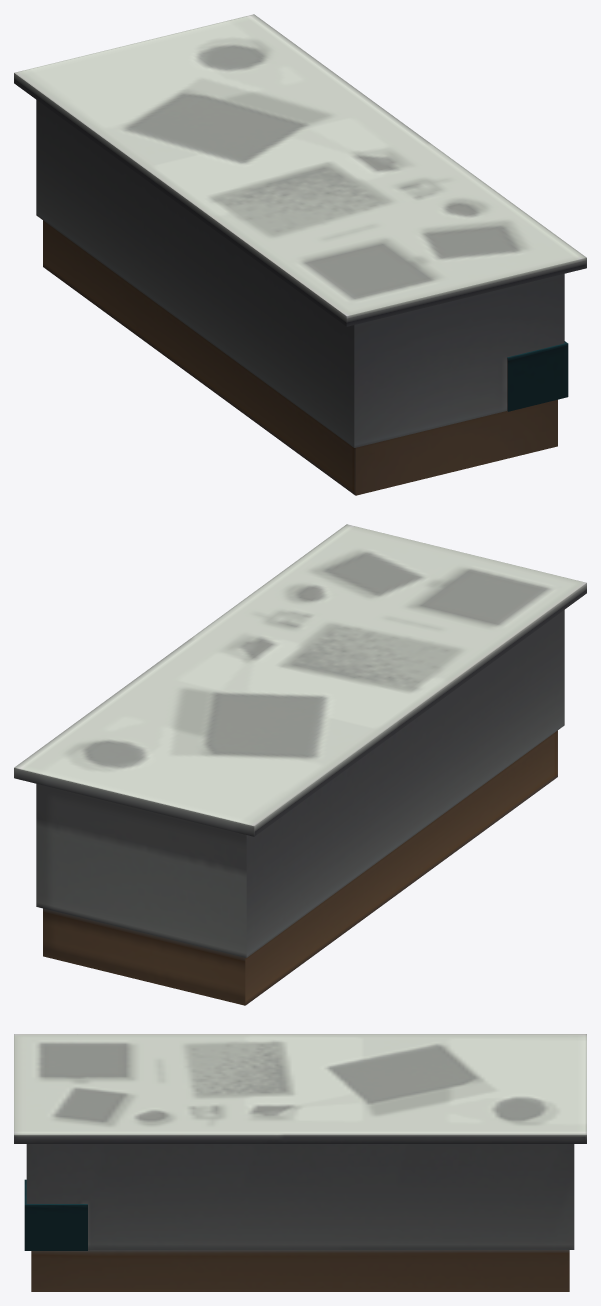
File: Tx_prop_table_4.fbx
3 renders of one model, top to bottom at view 1: azimuth 30°, elevation 25°; view 2: azimuth 150°, elevation 25°; view 3: azimuth 270°, elevation 25°, orthographic. The views are drawn at different scales.
Visible parts, largest first — view 1: Tx_prop_table_11; view 2: Tx_prop_table_11; view 3: Tx_prop_table_11.
Boxes of the visible parts, x1,y1,x2,y2 form: Tx_prop_table_11: [14, 14, 586, 495]; Tx_prop_table_11: [14, 524, 586, 1005]; Tx_prop_table_11: [14, 1034, 586, 1291].
Size of the model in its own units: 4.69 by 3.57 by 11.25.
